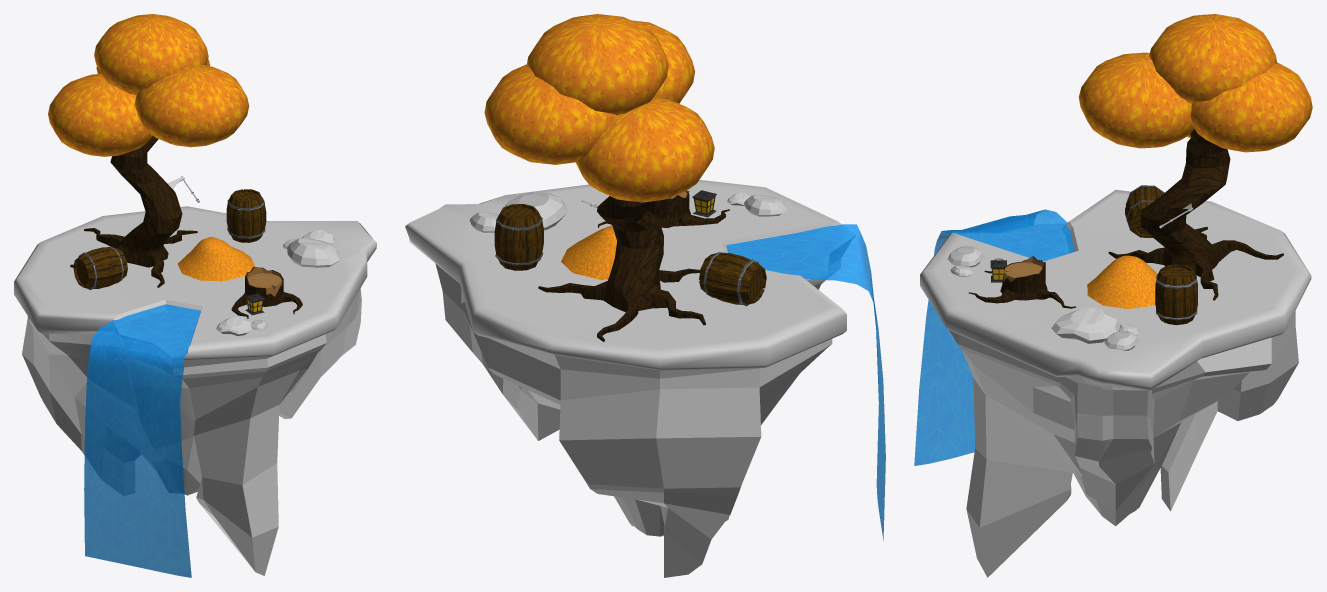
File: sadam.fbx
The picture shows the model from 3 angles, left to right: view 1: azimuth 30°, elevation 25°; view 2: azimuth 150°, elevation 25°; view 3: azimuth 270°, elevation 25°; orthographic projection. The views are drawn at different scales.
Visible parts, largest first — view 1: polySurface29; view 2: polySurface29; view 3: polySurface29.
Part boxes in pixels (box(x1,y1,x2,y2)): polySurface29: box(14, 14, 376, 577); polySurface29: box(405, 14, 885, 577); polySurface29: box(914, 14, 1312, 577).
Size of the model in its own units: 291 by 398 by 262.
